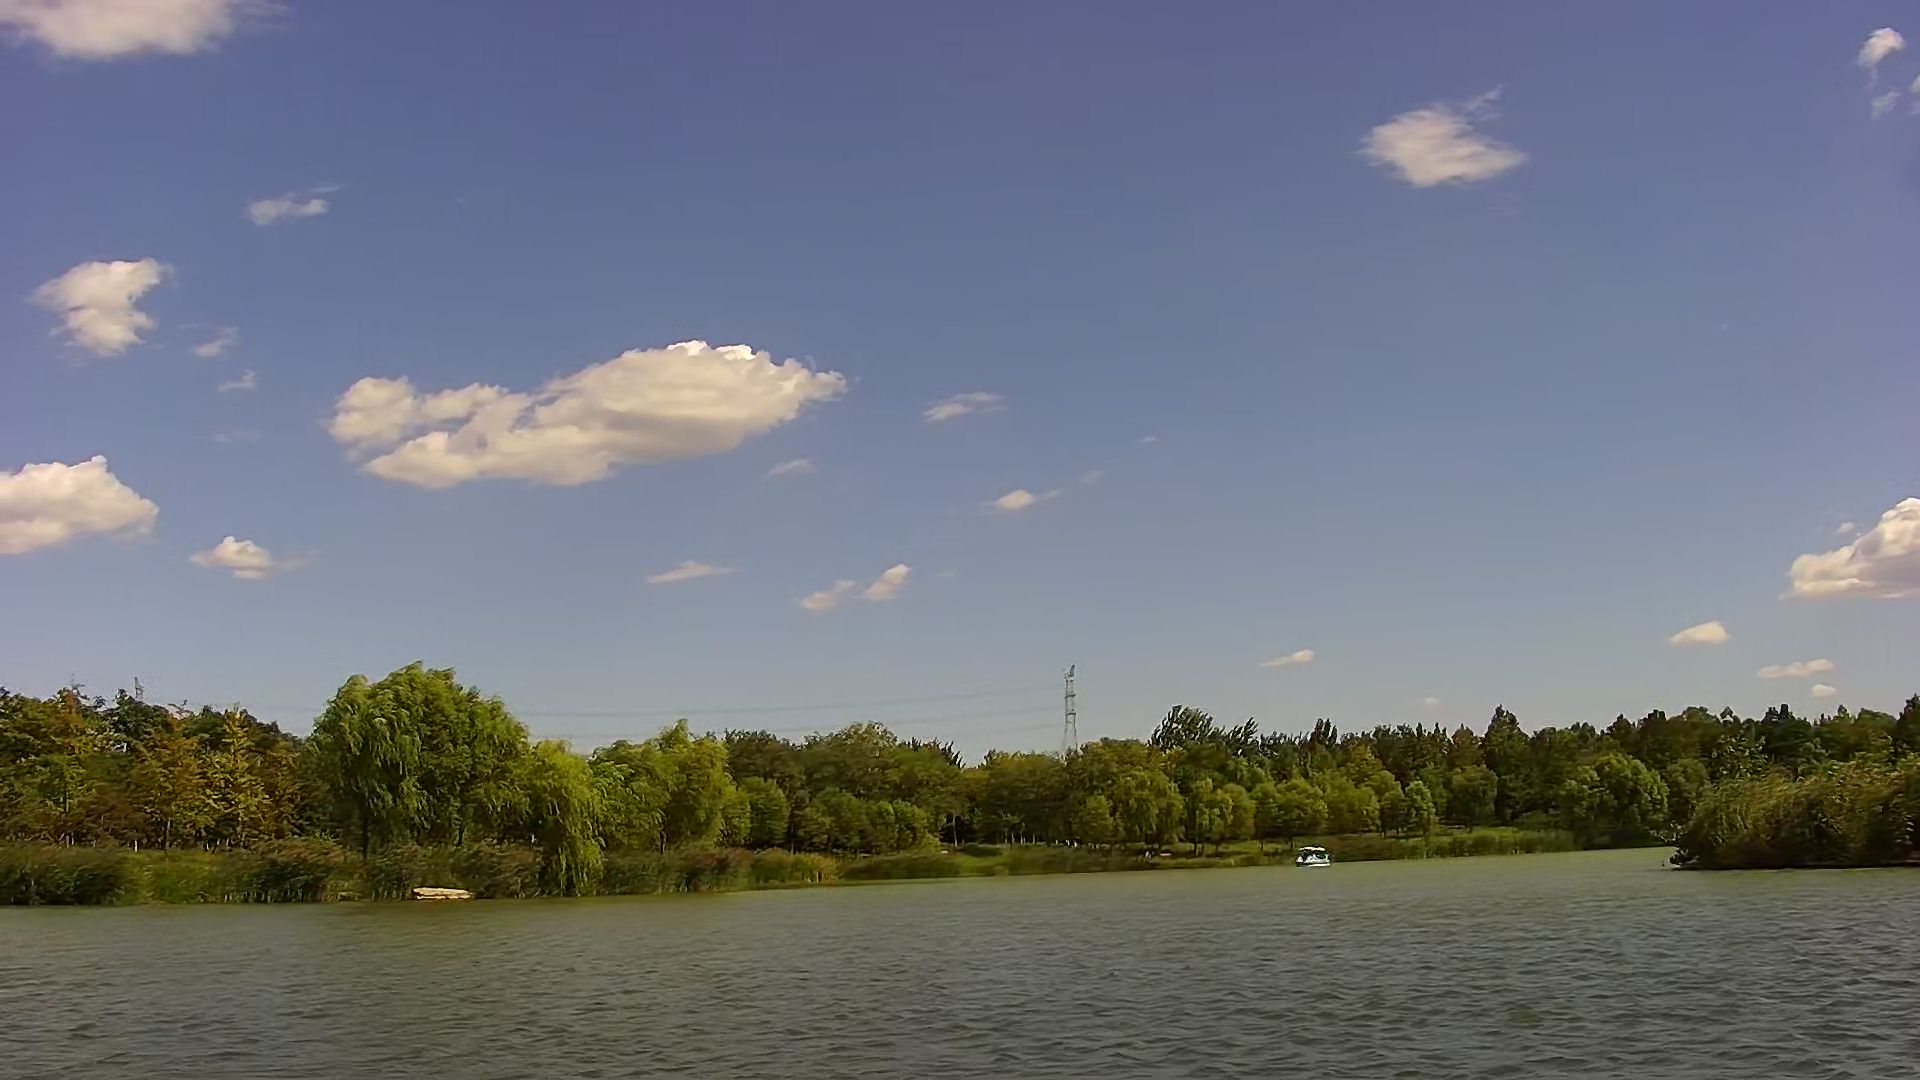boat: (1292, 845, 1335, 868)
